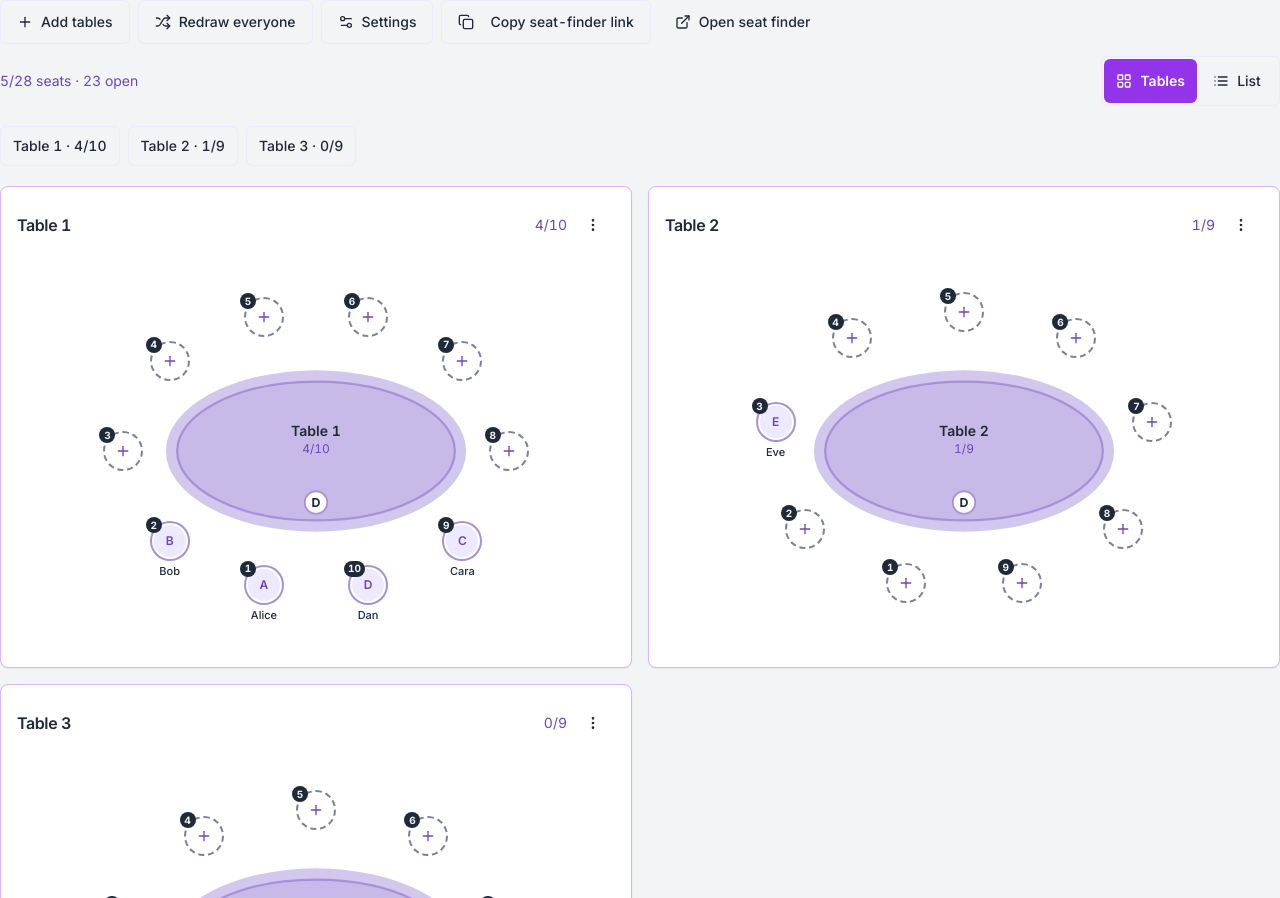
Test: SeatingPanel: a table's menu › closes without asking the server when nothing changed
Click the button named "Table 2 options" at (1241, 225), box [1219,203,1263,247]
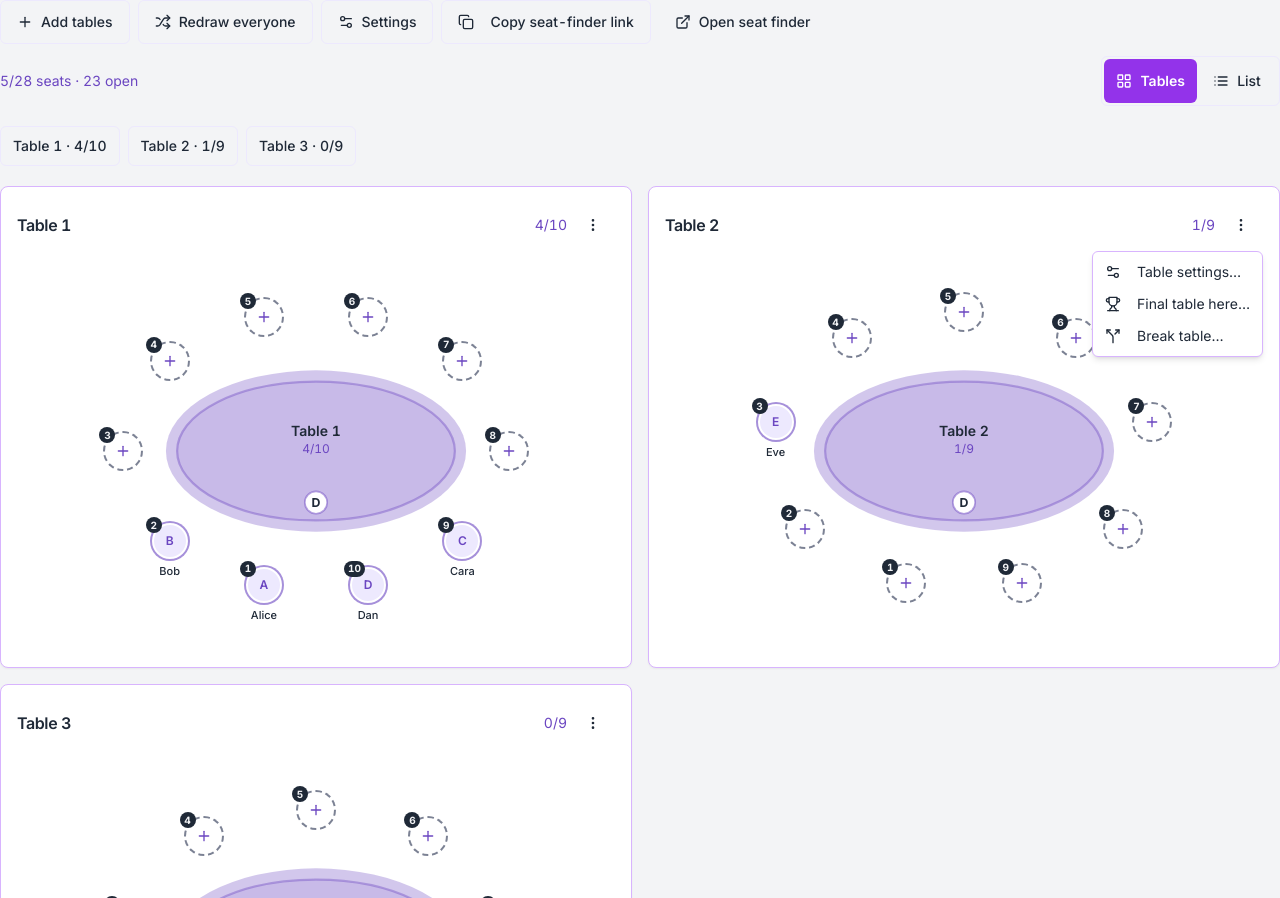
Click the menu item "Table settings…" at (1173, 272), box [1105,263,1241,280]
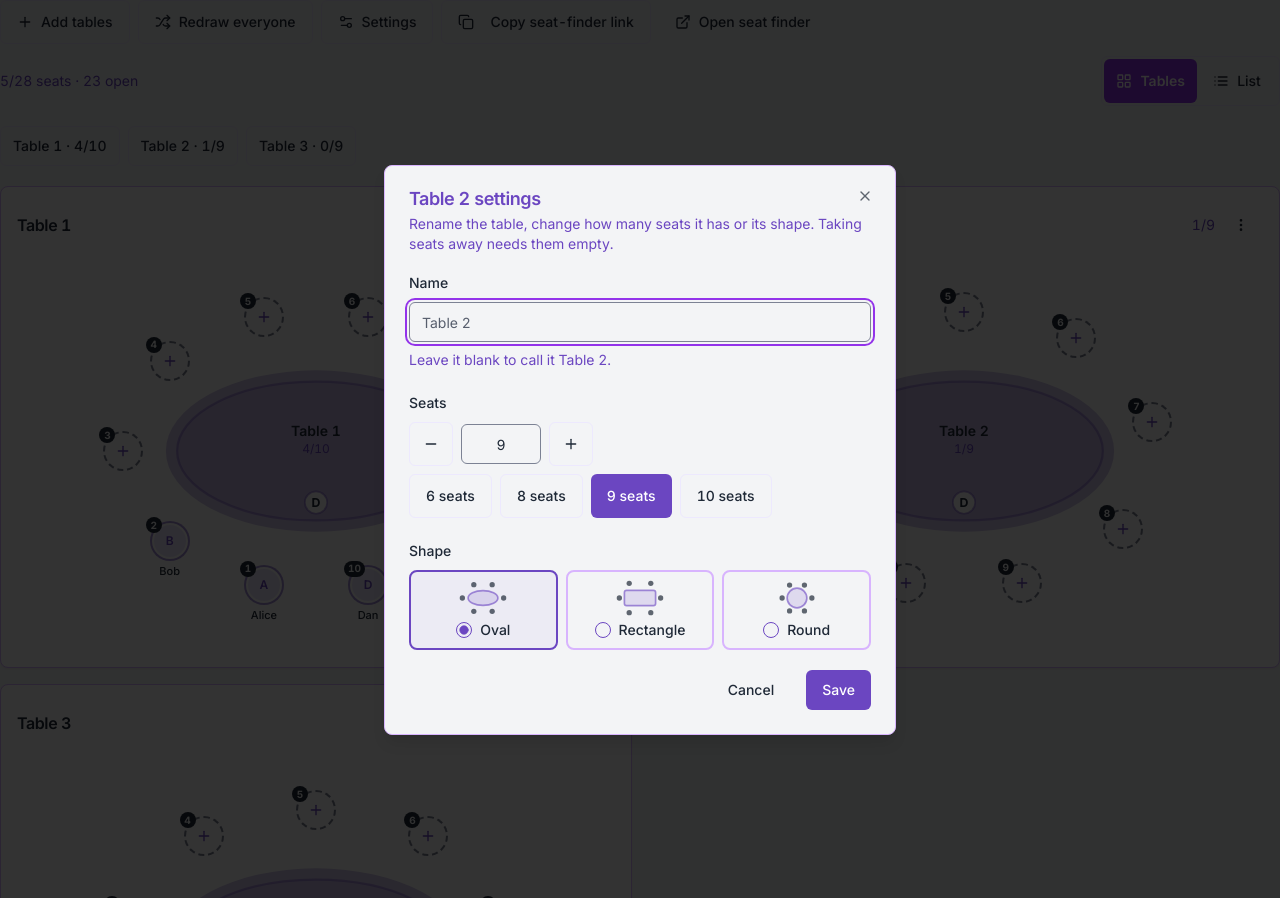
Click the button "Save" at (839, 690), box [806,670,871,710]
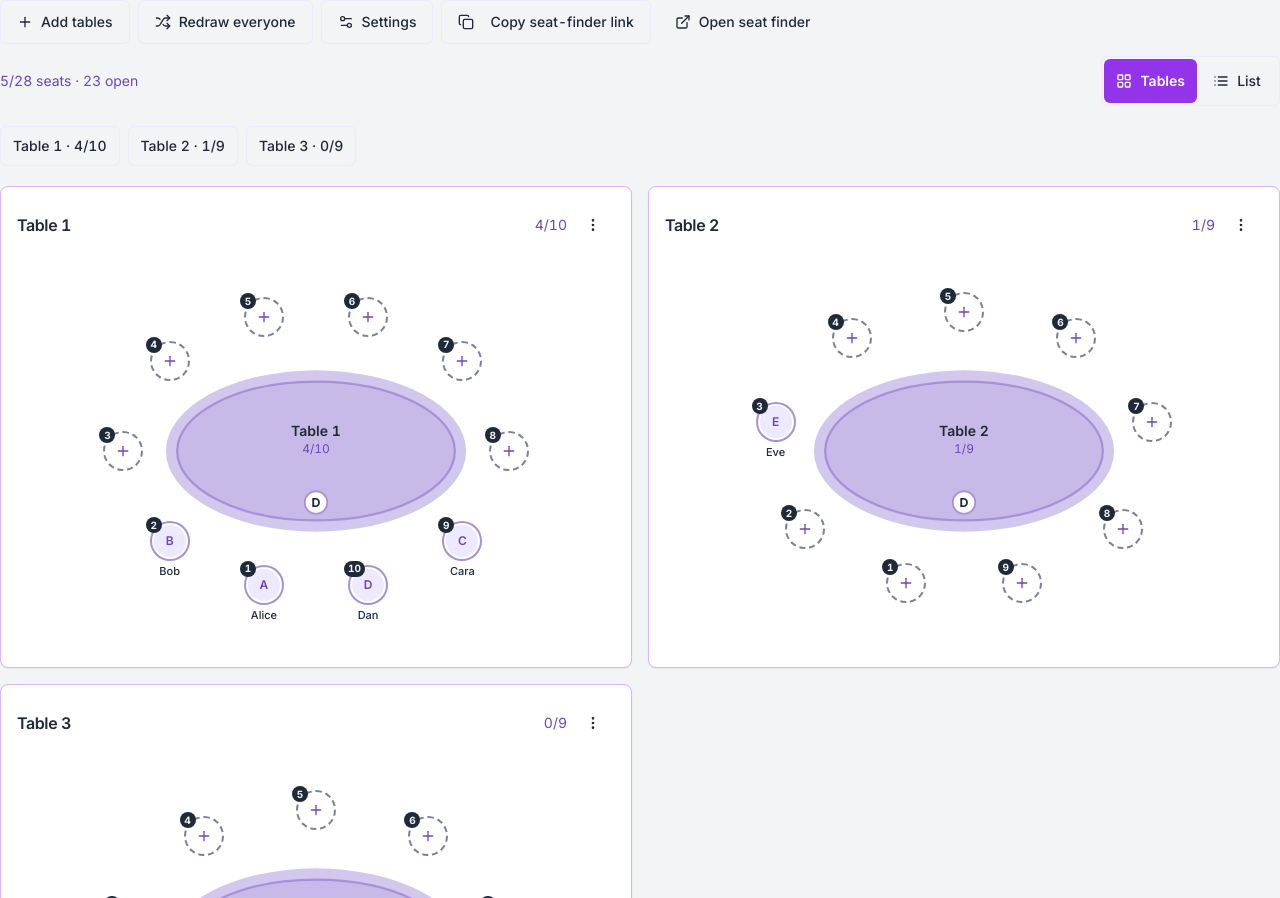
Check: the dialog is gone
